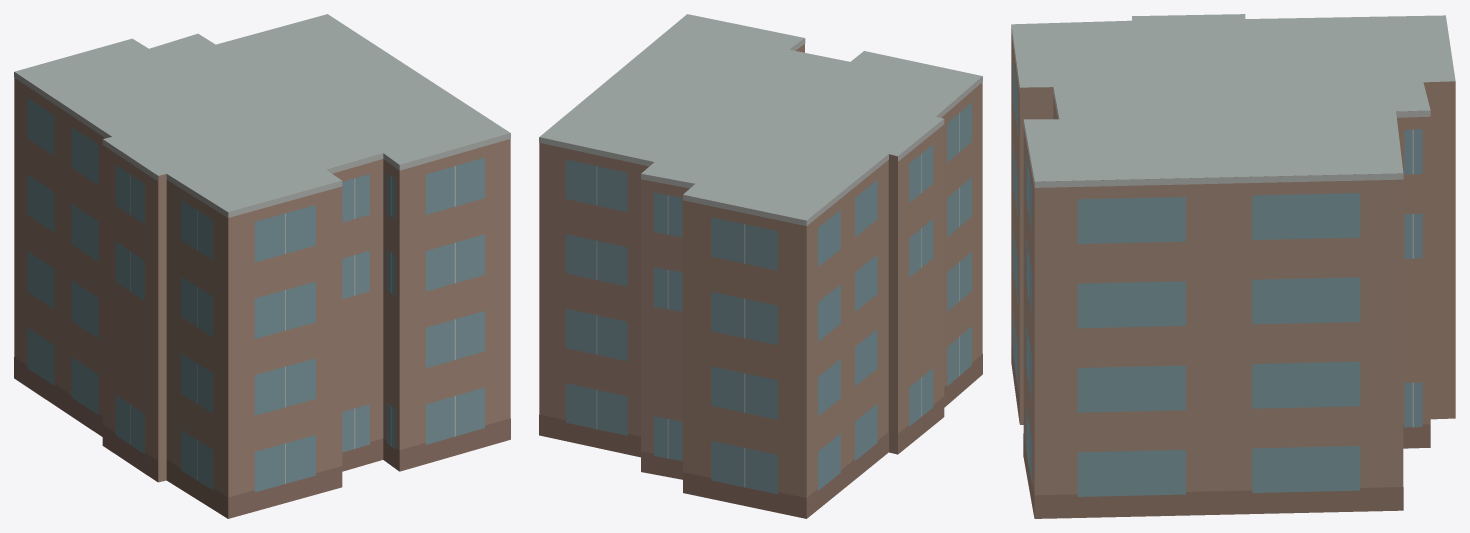
The model's file is survey-upis-32743849.glb.
The picture shows the model from 3 angles, left to right: view 1: azimuth 30°, elevation 25°; view 2: azimuth 150°, elevation 25°; view 3: azimuth 270°, elevation 25°; orthographic projection. The views are drawn at different scales.
Parts seen in each view (by area): view 1: survey-upis-32743849.tmp; view 2: survey-upis-32743849.tmp; view 3: survey-upis-32743849.tmp.
Boxes of the visible parts, left/top/right/bottom form: survey-upis-32743849.tmp: left=14, top=14, right=510, bottom=518; survey-upis-32743849.tmp: left=539, top=14, right=982, bottom=518; survey-upis-32743849.tmp: left=1011, top=14, right=1455, bottom=518.
Size of the model in its own units: 13.86 by 13 by 15.53.
